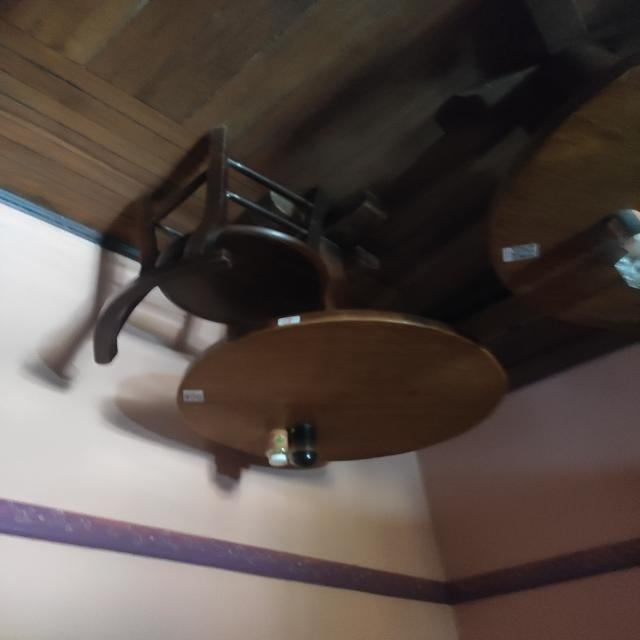qr-code: (511, 243, 536, 261), (184, 393, 203, 402)
